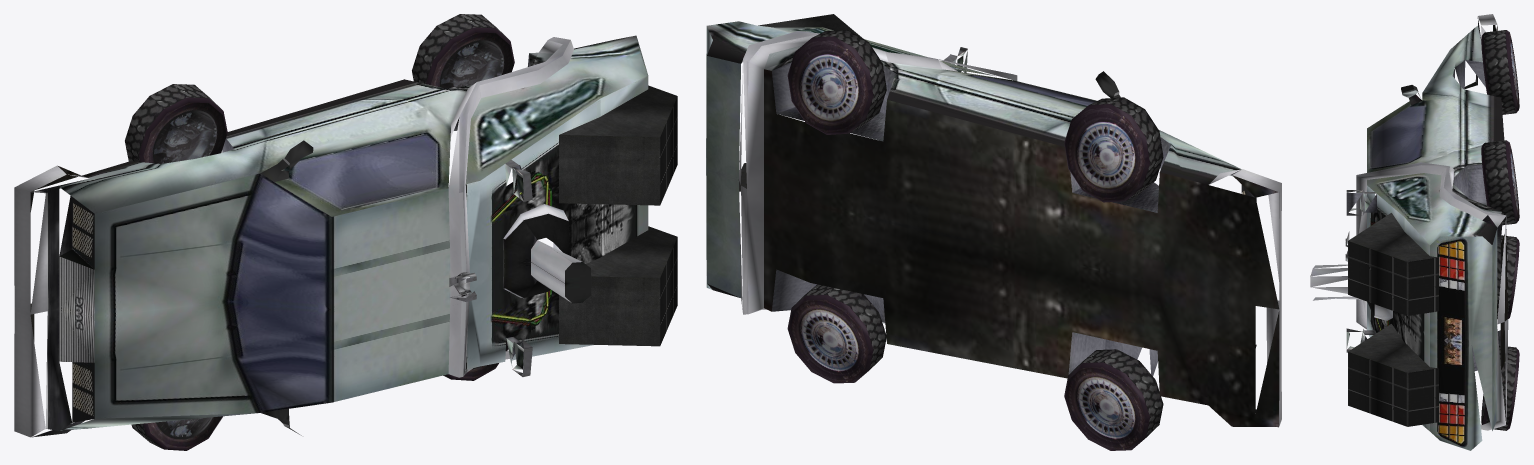
Rendered from Delorian.glb.
3 renders of one model, left to right at view 1: azimuth 30°, elevation 25°; view 2: azimuth 150°, elevation 25°; view 3: azimuth 270°, elevation 25°, orthographic. The views are drawn at different scales.
Parts seen in each view (by area): view 1: delor, backbox01, backbox, ChamferCyl03, ChamferCyl04, ChamferCyl01; view 2: delor, ChamferCyl03, ChamferCyl04, ChamferCyl01, ChamferCyl02, backbox01; view 3: delor, backbox, backbox01, ChamferCyl04, ChamferCyl03, ChamferCyl02, ChamferCyl01.
Part boxes in pixels (bbox=[...]): delor: bbox=[14, 35, 648, 437]; backbox01: bbox=[559, 85, 677, 205]; backbox: bbox=[559, 226, 677, 346]; ChamferCyl03: bbox=[125, 84, 227, 163]; ChamferCyl04: bbox=[412, 14, 514, 117]; ChamferCyl01: bbox=[131, 416, 222, 450]; delor: bbox=[706, 21, 1281, 427]; ChamferCyl03: bbox=[1064, 97, 1163, 202]; ChamferCyl04: bbox=[787, 30, 886, 134]; ChamferCyl01: bbox=[1064, 349, 1163, 450]; ChamferCyl02: bbox=[787, 284, 886, 383]; backbox01: bbox=[758, 14, 863, 38]; delor: bbox=[1310, 14, 1508, 450]; backbox: bbox=[1348, 324, 1438, 426]; backbox01: bbox=[1348, 213, 1438, 315]; ChamferCyl04: bbox=[1481, 140, 1519, 226]; ChamferCyl03: bbox=[1481, 30, 1519, 114]; ChamferCyl02: bbox=[1481, 345, 1519, 430]; ChamferCyl01: bbox=[1497, 235, 1519, 319].
Size of the model in its own units: 119 by 67.09 by 44.84.
Materials: 3 (3 with a texture image).
